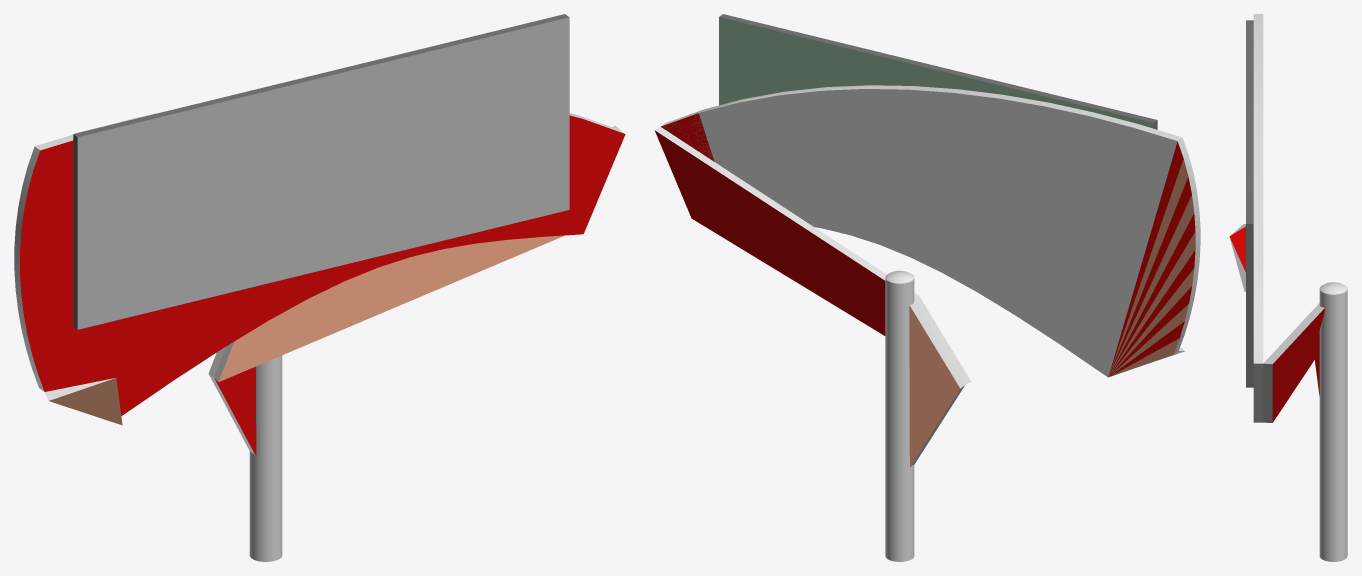
The model's file is Bilb.fbx.
3 views of the same model, side by side, from view 1: azimuth 30°, elevation 25°; view 2: azimuth 150°, elevation 25°; view 3: azimuth 270°, elevation 25° (orthographic). The views are drawn at different scales.
Parts seen in each view (by area): view 1: Куб, path11670, Цилиндр; view 2: path11670, Куб, Цилиндр; view 3: path11670, Цилиндр, Куб.
Part boxes in pixels (x1,y1,x2,y2): Куб: (73,14,569,329); path11670: (14,111,625,456); Цилиндр: (249,355,282,561); path11670: (654,85,1200,466); Куб: (719,14,1157,129); Цилиндр: (885,270,914,561); path11670: (1229,14,1324,422); Цилиндр: (1319,282,1347,561); Куб: (1246,20,1253,387).
Size of the model in its own units: 620 by 502 by 123.
